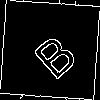B: (25, 25, 80, 82)
